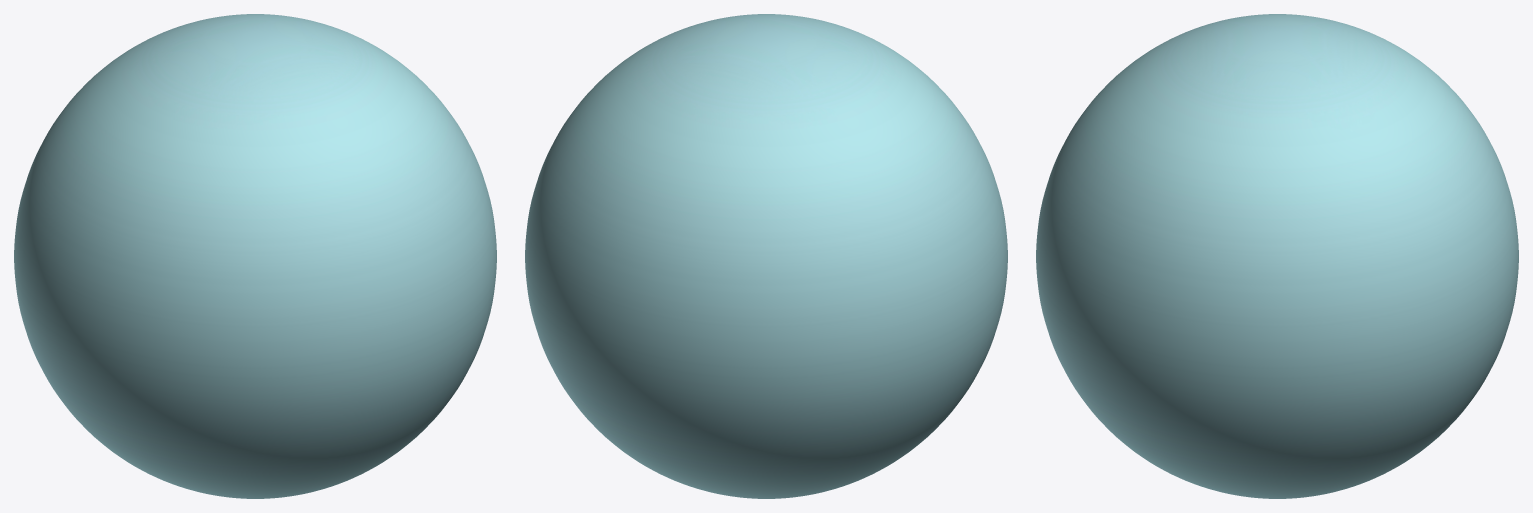
Rendered from uranus.glb.
3 renders of one model, left to right at view 1: azimuth 30°, elevation 25°; view 2: azimuth 150°, elevation 25°; view 3: azimuth 270°, elevation 25°, orthographic.
Parts seen in each view (by area): view 1: Sphere_0; view 2: Sphere_0; view 3: Sphere_0.
Boxes of the visible parts, x1,y1,x2,y2 form: Sphere_0: (14, 14, 496, 498); Sphere_0: (525, 14, 1007, 498); Sphere_0: (1036, 14, 1518, 498).
Bounding box in the file's own units: 1.99 × 2 × 1.99.
Materials: 1 (1 with a texture image).
